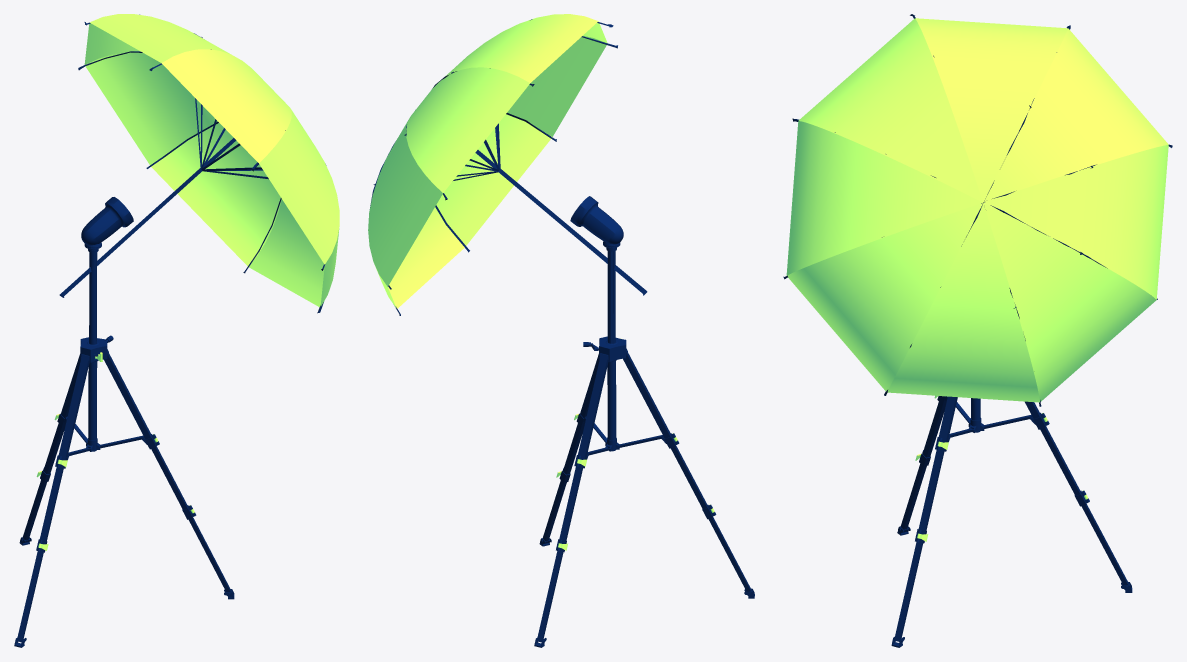
Rendered from Tripod.fbx.
3 renders of one model, left to right at view 1: azimuth 30°, elevation 25°; view 2: azimuth 150°, elevation 25°; view 3: azimuth 270°, elevation 25°, orthographic. The views are drawn at different scales.
Visible parts, largest first — view 1: Umbrella_001, Group_043, Group_055, Group_012, Group_011, Group_054, Group_051, Group_010, Group_063, Group_042; view 2: Umbrella_001, Group_027, Group_043, Group_011, Group_039, Group_012, Group_036; view 3: Umbrella_001, Group_063, Group_042, Group_039, Group_036.
Part boxes in pixels (box(x1,y1,x2,y2)): Umbrella_001: box(59, 14, 339, 313); Group_043: box(58, 359, 89, 457); Group_055: box(104, 353, 151, 439); Group_012: box(89, 252, 97, 344); Group_011: box(88, 361, 97, 451); Group_054: box(17, 551, 43, 639); Group_051: box(39, 467, 63, 540); Group_010: box(80, 337, 107, 362); Group_063: box(188, 517, 230, 591); Group_042: box(151, 446, 187, 509); Umbrella_001: box(368, 14, 647, 315); Group_027: box(578, 358, 608, 456); Group_043: box(623, 353, 670, 438); Group_011: box(607, 361, 616, 451); Group_039: box(537, 551, 563, 639); Group_012: box(607, 251, 615, 343); Group_036: box(559, 466, 582, 540); Umbrella_001: box(783, 14, 1172, 406); Group_063: box(895, 542, 923, 638); Group_042: box(918, 450, 944, 530); Group_039: box(1081, 504, 1128, 585); Group_036: box(1040, 426, 1080, 495).
Size of the model in its own units: 345 by 555 by 328.
